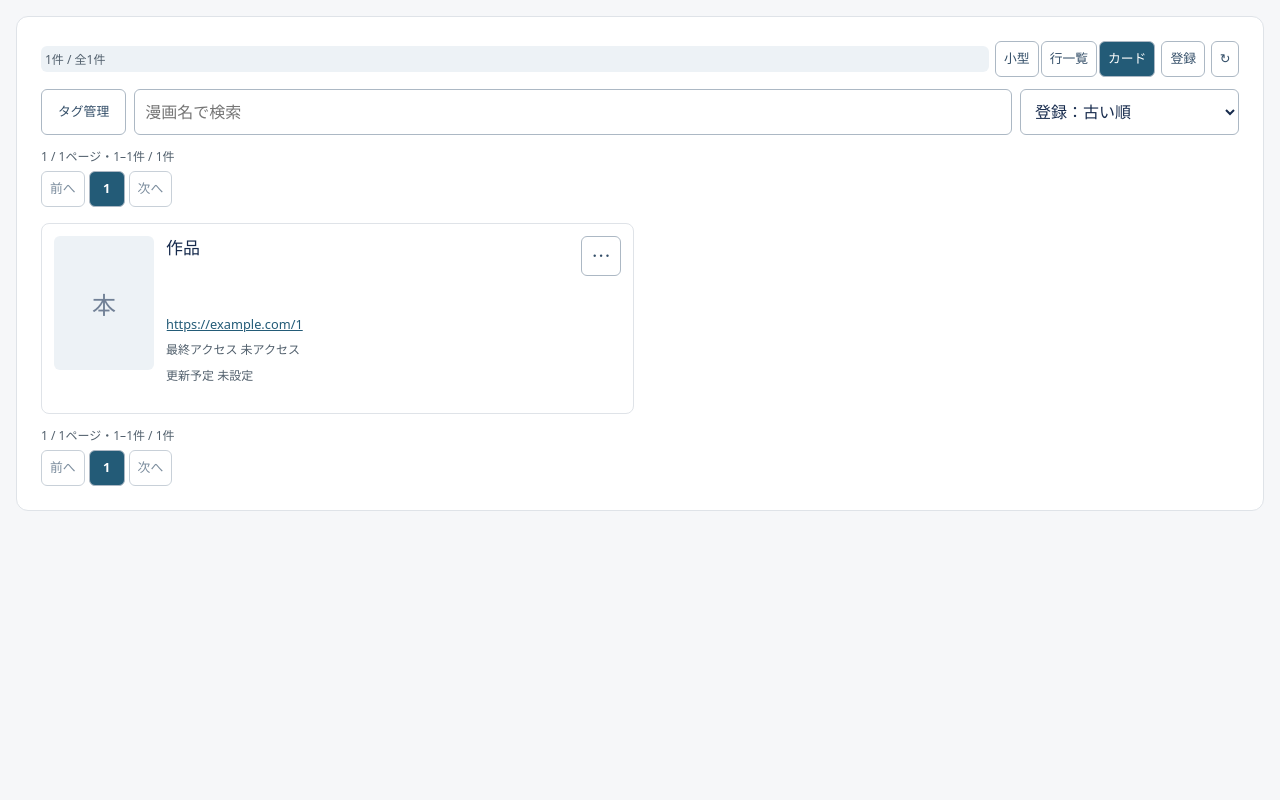
Test: 形式とフォームの保存を操作順に送り、古い保存失敗で最新の形式や検索を戻さない
Expected: the button with aria-label "小型表示" is enabled, [995, 41, 1039, 77]
Expected: the heading "作品" is shown, [166, 236, 200, 259]
Type "作品" into the search field.
click(573, 112); type("作品")  # box [134, 89, 1012, 135]
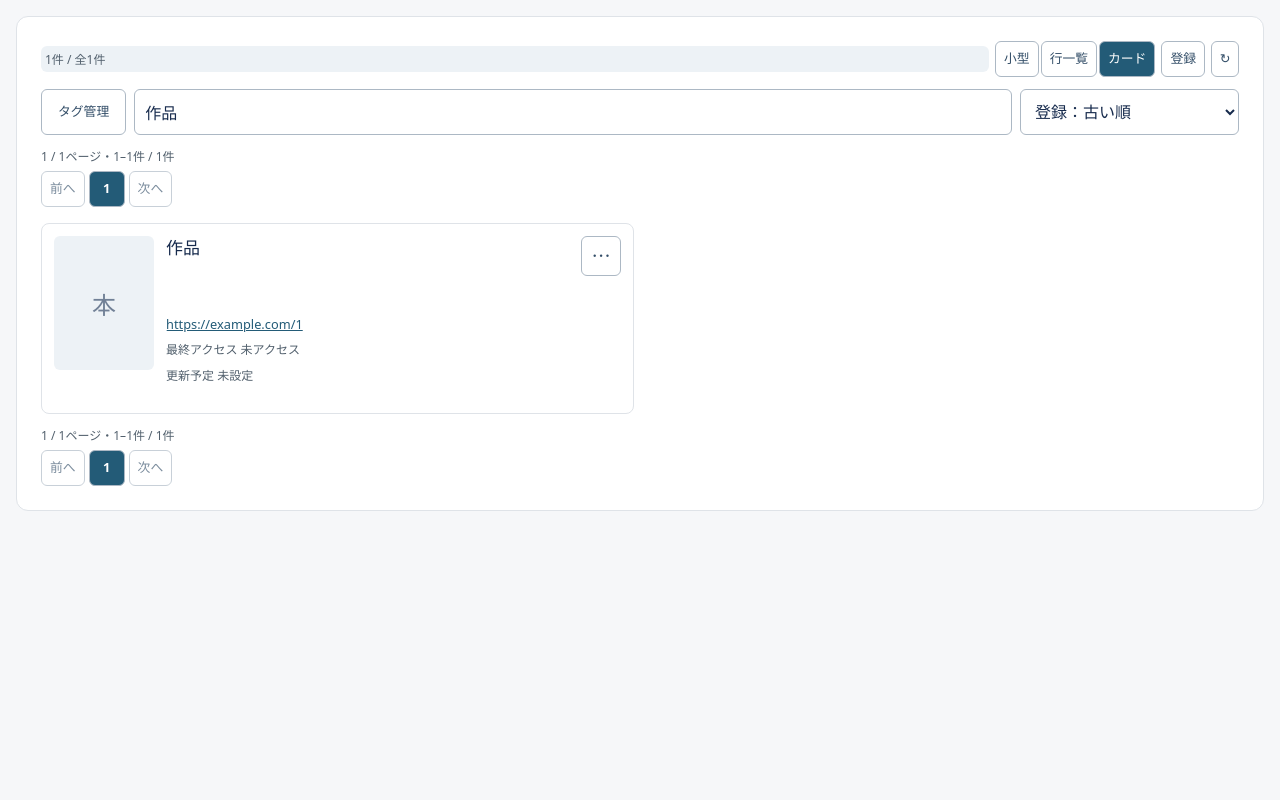
Click the button with aria-label "小型表示".
click(1017, 59)  # box [995, 41, 1039, 77]
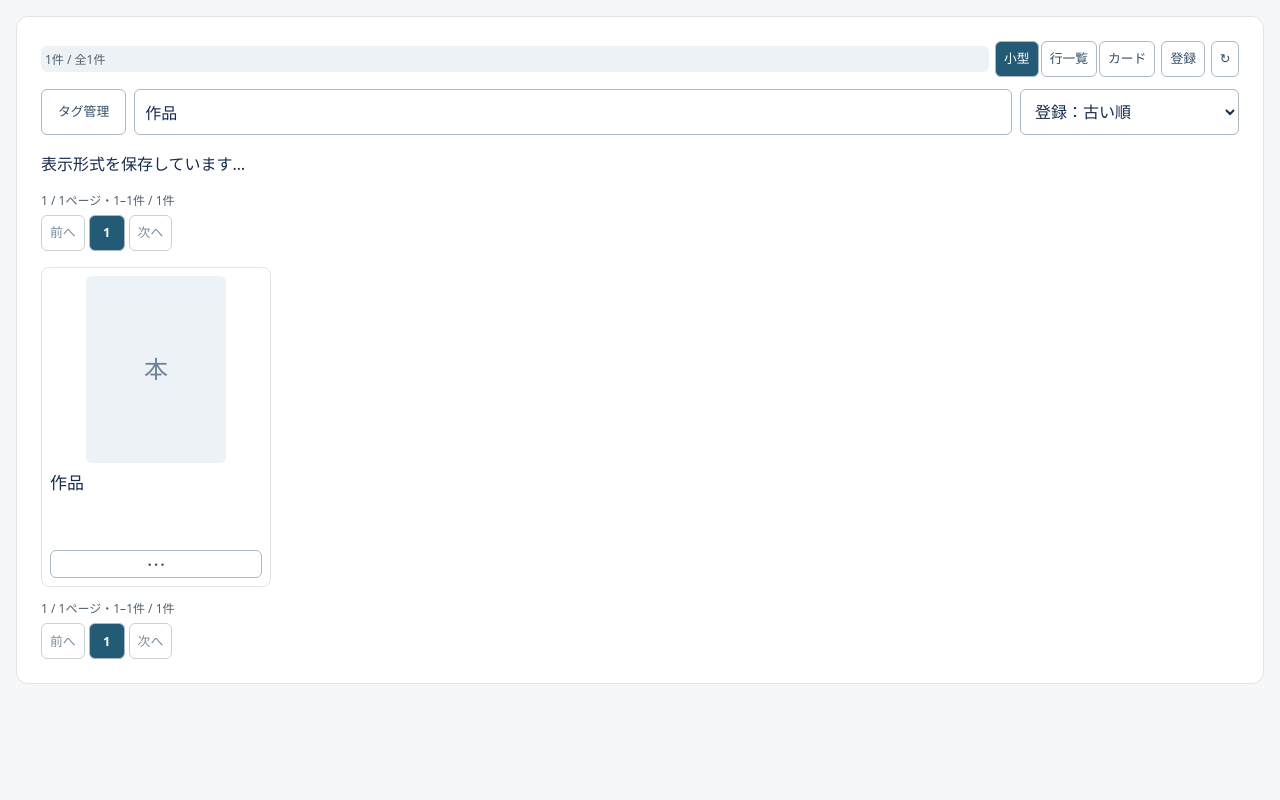
Click the button with aria-label "作品を登録".
click(1183, 59)  # box [1161, 41, 1205, 77]
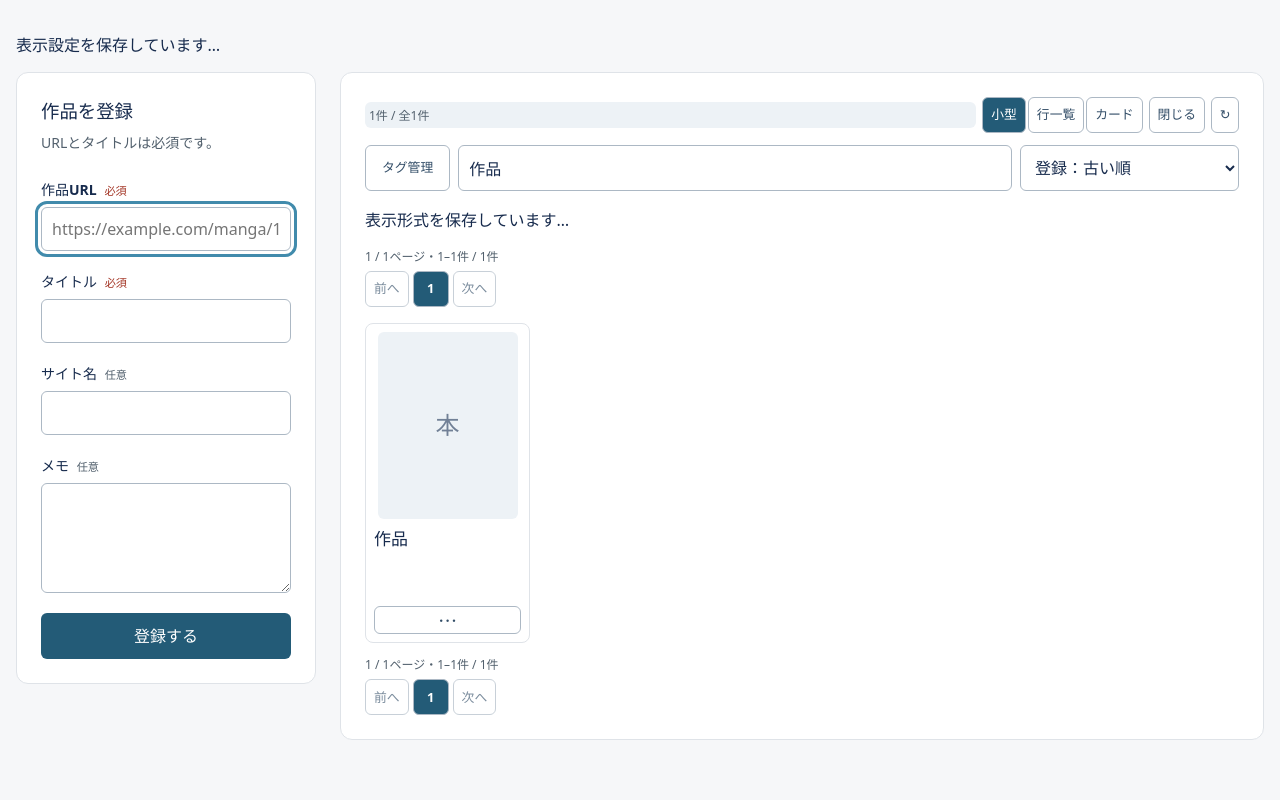
Click the button "行一覧".
click(1056, 115)  # box [1028, 97, 1084, 133]
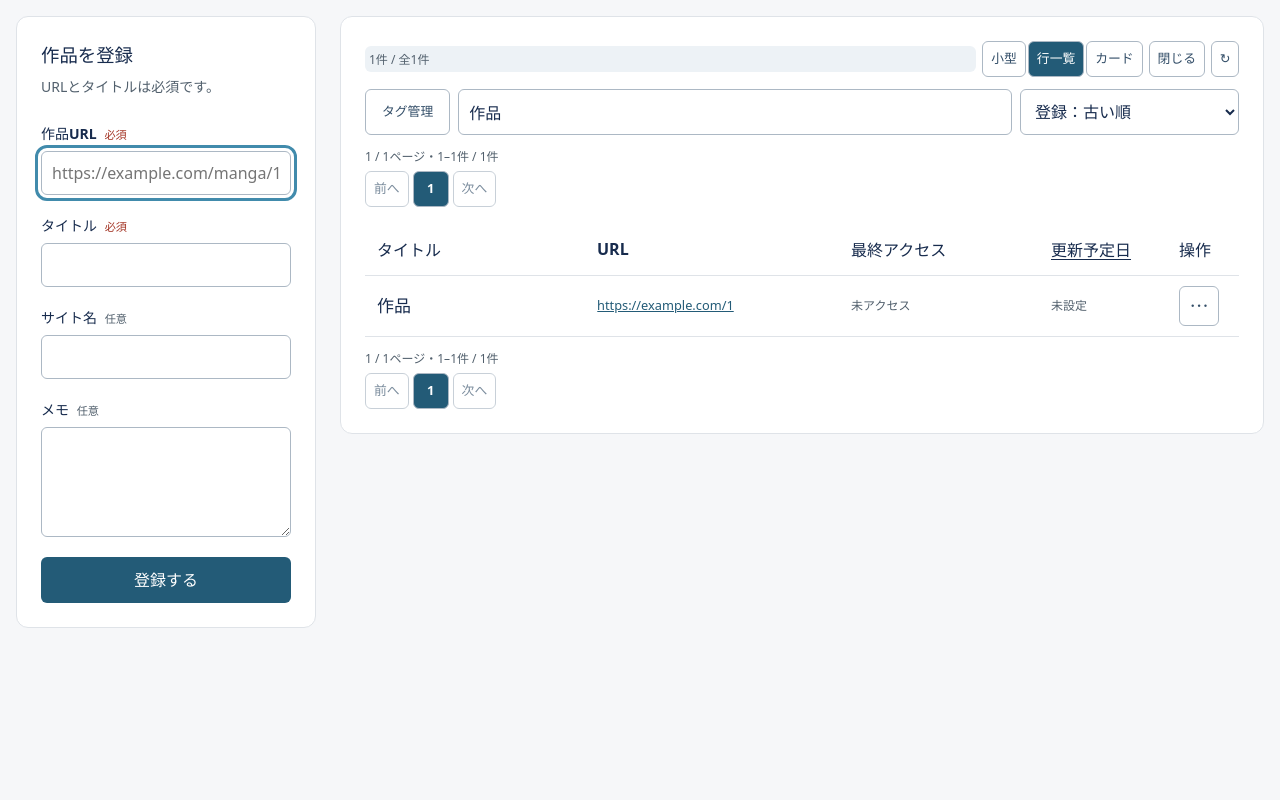
Now the message "表示設定を保存しています…" is gone
